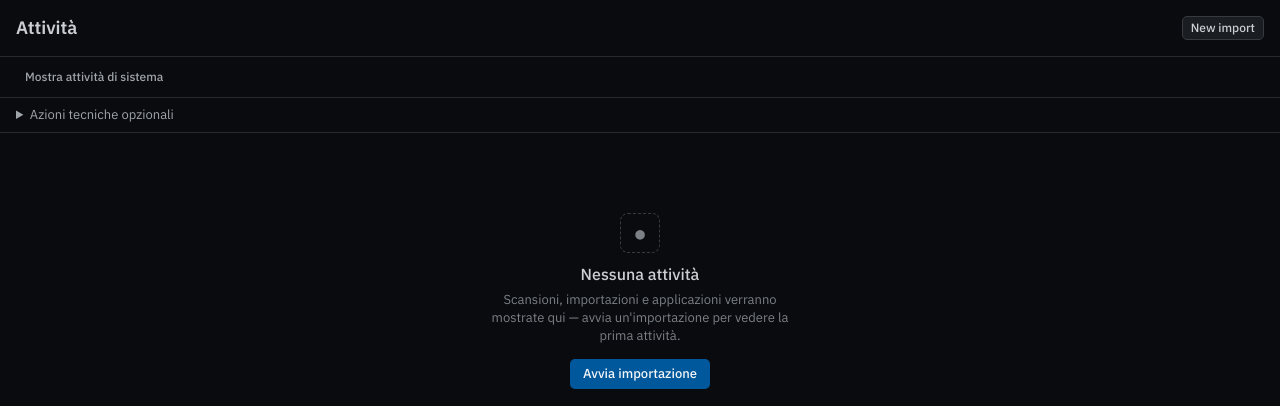
Scenario: Activity grouping › hides system activity by default behind toggle
The width and height of the screenshot is (1280, 406).
Check: the text "Nessuna attività" is shown, box [581,263,699,285]
Check: the text "Pulizia cronologia di annullamento" is not shown
Step 1. Click the button "Mostra attività di sistema" → (94, 77), box [16,65,172,89]
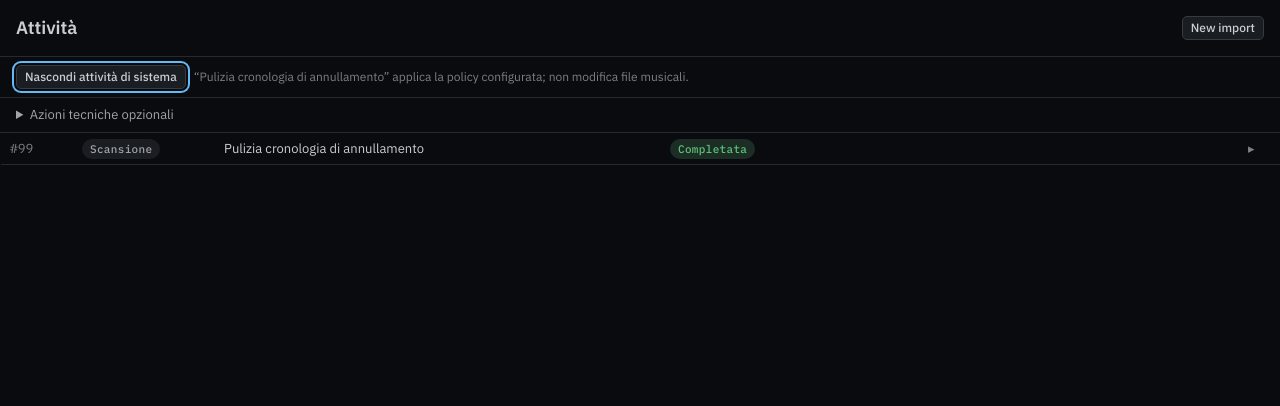
Check: the text "Pulizia cronologia di annullamento" is shown, box [224,140,424,156]
